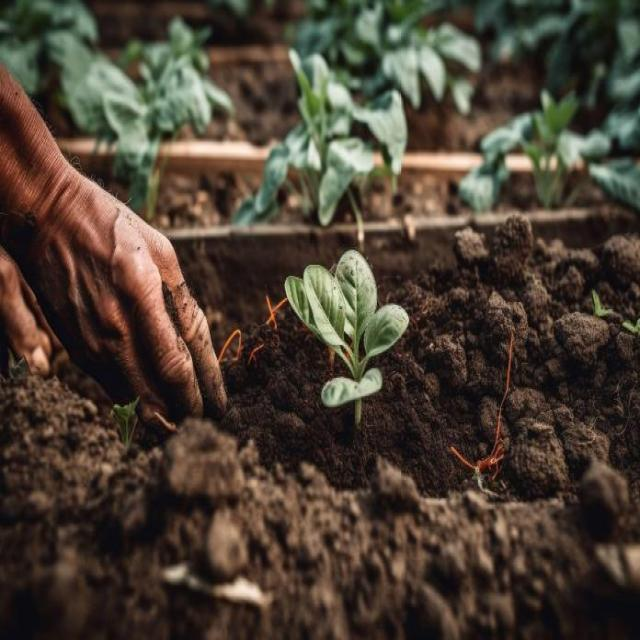suelo_humedo: (66, 168, 634, 591)
